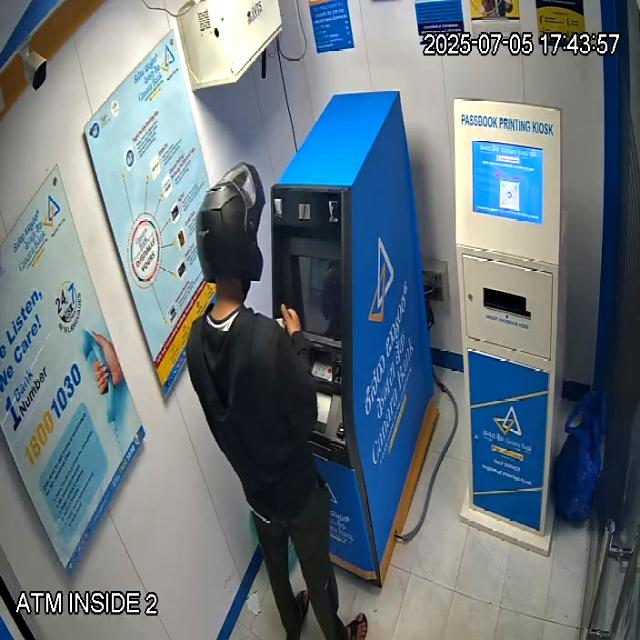helmet: (195, 161, 267, 305)
